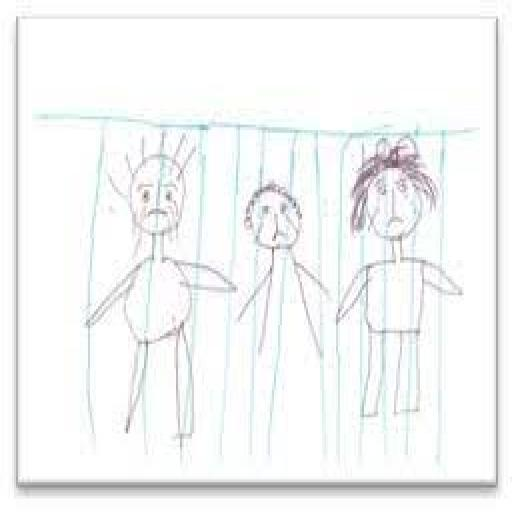person: (84, 137, 232, 447), (336, 136, 474, 424), (233, 180, 338, 366)
